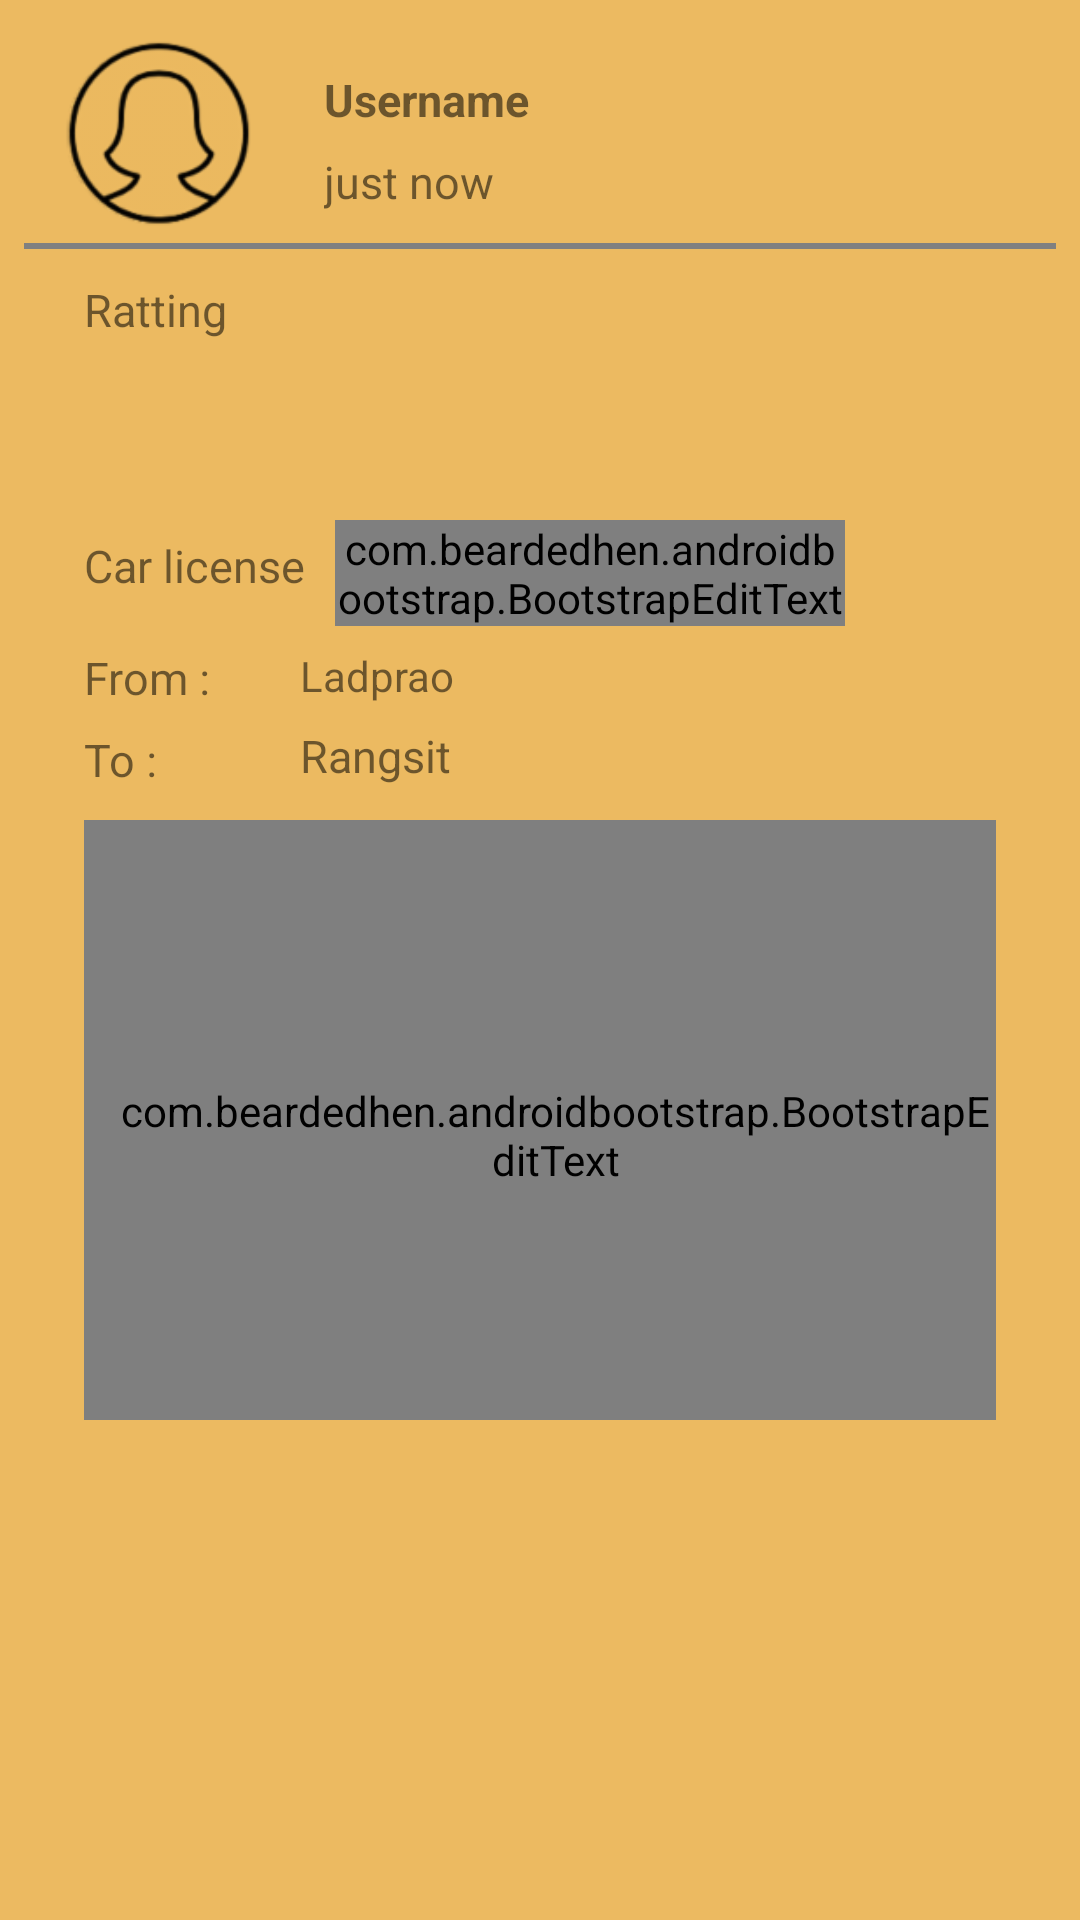

Named icons in this screenshot (1080px×1920px) and their centers, point (x, y):
profile user: point (159, 133)
